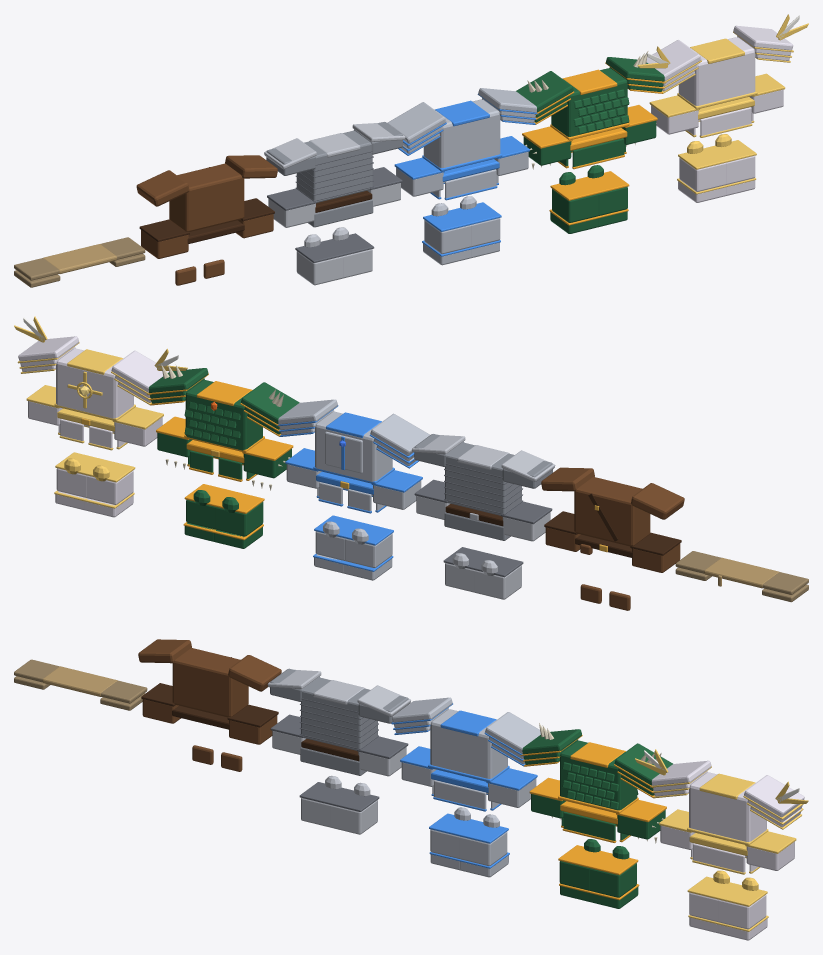
File: Armor.glb
3 views of the same model, one above another, from view 1: azimuth 30°, elevation 25°; view 2: azimuth 150°, elevation 25°; view 3: azimuth 330°, elevation 25° (orthographic).
Parts seen in each view (by area): view 1: Chainmail_UpperTorso, KnightPlate_UpperTorso, CelestialAegis_UpperTorso, Dragonscale_UpperTorso, LeatherGuard_UpperTorso, KnightPlate_LeftLowerLeg, CelestialAegis_LeftLowerLeg, Dragonscale_LeftLowerLeg, Chainmail_LeftLowerLeg, KnightPlate_LeftUpperArm, CelestialAegis_RightUpperArm, CelestialAegis_LeftUpperArm (+32 smaller); view 2: Chainmail_UpperTorso, CelestialAegis_UpperTorso, KnightPlate_UpperTorso, Dragonscale_UpperTorso, LeatherGuard_UpperTorso, CelestialAegis_LeftUpperArm, KnightPlate_LeftUpperArm, CelestialAegis_RightUpperArm, Dragonscale_LeftLowerLeg, KnightPlate_LeftLowerLeg, CelestialAegis_LeftLowerLeg, Chainmail_LeftLowerLeg (+32 smaller); view 3: Chainmail_UpperTorso, KnightPlate_UpperTorso, CelestialAegis_UpperTorso, Dragonscale_UpperTorso, LeatherGuard_UpperTorso, CelestialAegis_RightUpperArm, KnightPlate_RightLowerLeg, CelestialAegis_RightLowerLeg, Chainmail_RightLowerLeg, Dragonscale_RightLowerLeg, CelestialAegis_LeftUpperArm, CelestialAegis_LowerTorso (+32 smaller).
Boxes of the visible parts, <box> form: Chainmail_UpperTorso: <box>295,130,373,202</box>; KnightPlate_UpperTorso: <box>422,99,502,171</box>; CelestialAegis_UpperTorso: <box>677,37,757,109</box>; Dragonscale_UpperTorso: <box>550,68,629,140</box>; LeatherGuard_UpperTorso: <box>169,163,244,231</box>; KnightPlate_LeftLowerLeg: <box>423,203,472,254</box>; CelestialAegis_LeftLowerLeg: <box>678,141,728,191</box>; Dragonscale_LeftLowerLeg: <box>550,172,600,222</box>; Chainmail_LeftLowerLeg: <box>295,234,344,285</box>; KnightPlate_LeftUpperArm: <box>387,102,446,155</box>; CelestialAegis_RightUpperArm: <box>733,14,808,62</box>; CelestialAegis_LeftUpperArm: <box>637,40,701,93</box>; Chainmail_UpperTorso: <box>444,442,522,515</box>; CelestialAegis_UpperTorso: <box>54,348,135,421</box>; KnightPlate_UpperTorso: <box>313,411,394,484</box>; Dragonscale_UpperTorso: <box>184,380,264,452</box>; LeatherGuard_UpperTorso: <box>574,477,650,546</box>; CelestialAegis_LeftUpperArm: <box>111,348,187,404</box>; KnightPlate_LeftUpperArm: <box>369,413,429,468</box>; CelestialAegis_RightUpperArm: <box>14,316,79,373</box>; Dragonscale_LeftLowerLeg: <box>213,491,264,536</box>; KnightPlate_LeftLowerLeg: <box>343,522,393,567</box>; CelestialAegis_LeftLowerLeg: <box>84,460,135,504</box>; Chainmail_LeftLowerLeg: <box>472,554,523,599</box>; Chainmail_UpperTorso: <box>300,677,378,750</box>; KnightPlate_UpperTorso: <box>428,709,509,782</box>; CelestialAegis_UpperTorso: <box>687,772,768,845</box>; Dragonscale_UpperTorso: <box>558,740,638,813</box>; LeatherGuard_UpperTorso: <box>172,648,248,717</box>; CelestialAegis_RightUpperArm: <box>743,775,808,829</box>; KnightPlate_RightLowerLeg: <box>458,814,508,866</box>; CelestialAegis_RightLowerLeg: <box>717,877,767,929</box>; Chainmail_RightLowerLeg: <box>330,782,379,834</box>; Dragonscale_RightLowerLeg: <box>588,846,638,897</box>; CelestialAegis_LeftUpperArm: <box>635,749,711,798</box>; CelestialAegis_LowerTorso: <box>689,833,759,874</box>.
Size of the model in its own units: 27.55 by 5.54 by 1.49.
Materials: 1 (1 with a texture image).
